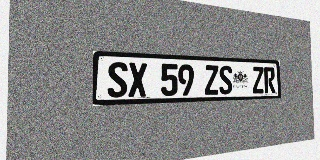5: (161, 63, 178, 96)
9: (178, 64, 194, 96)
R: (264, 67, 275, 93)
S: (107, 62, 128, 98), (219, 65, 233, 95)
X: (128, 62, 147, 97)
Z: (204, 65, 219, 95), (252, 67, 264, 94)
